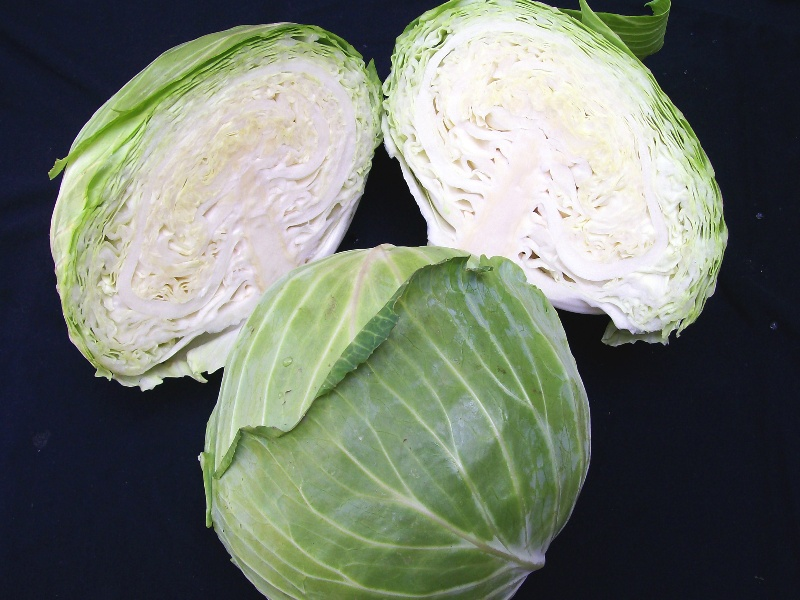Repollo: (185, 237, 603, 600), (41, 25, 394, 404), (377, 4, 747, 355)
